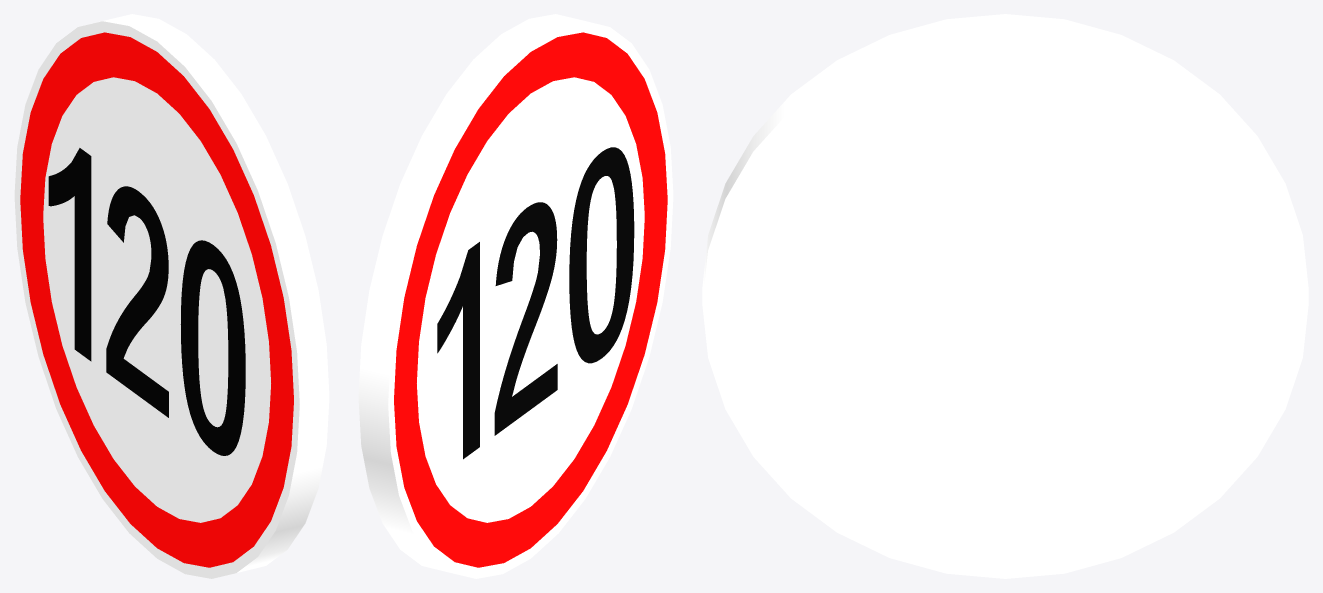
Rendered from Speed_Limit_120.glb.
3 renders of one model, left to right at view 1: azimuth 30°, elevation 25°; view 2: azimuth 150°, elevation 25°; view 3: azimuth 270°, elevation 25°, orthographic. The views are drawn at different scales.
Parts seen in each view (by area): view 1: Speed_Limit_120; view 2: Speed_Limit_120; view 3: Speed_Limit_120.
Part boxes in pixels (x1=…): Speed_Limit_120: x1=14, y1=14, x2=329, y2=578; Speed_Limit_120: x1=358, y1=14, x2=673, y2=578; Speed_Limit_120: x1=702, y1=14, x2=1308, y2=578.
Size of the model in its own units: 0.075 by 1 by 1.
